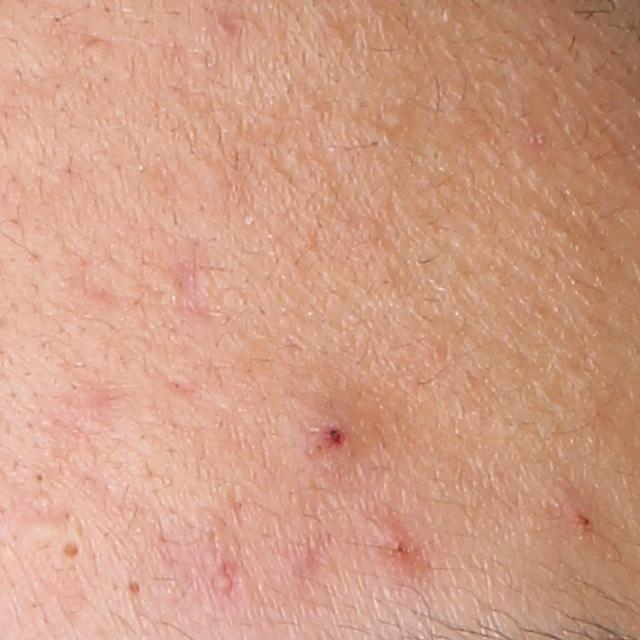comedo: (127, 580, 145, 597), (33, 468, 50, 484)
papule: (565, 483, 604, 542), (380, 527, 429, 570), (312, 414, 352, 459)
